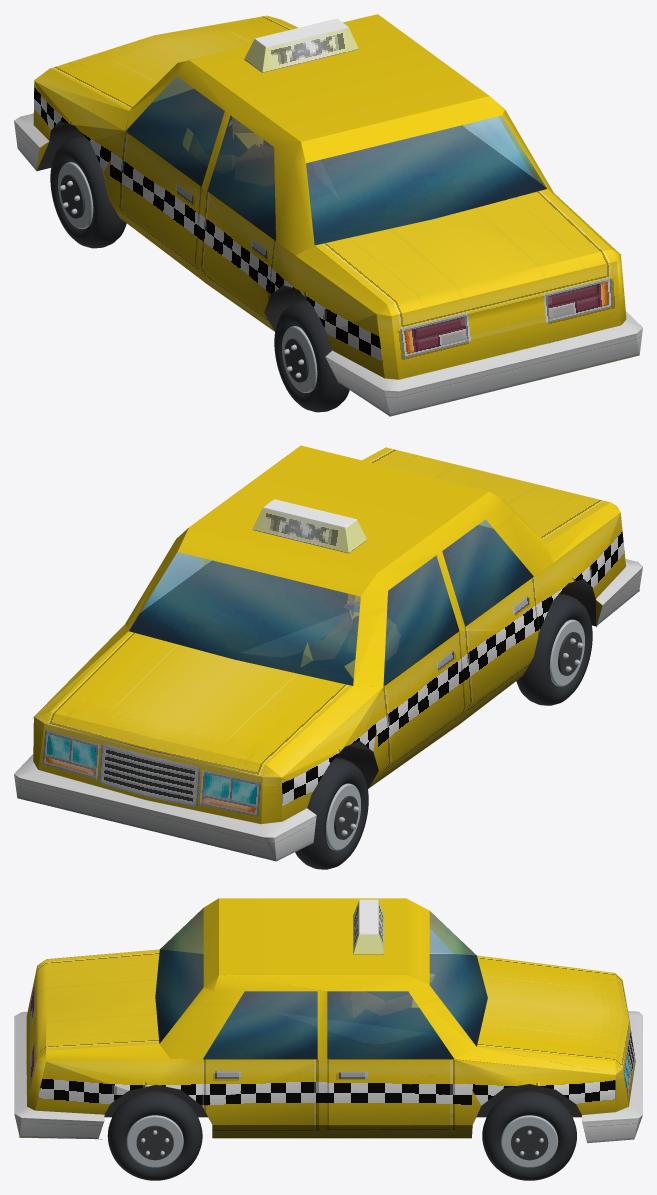
File: car-taxia.glb
3 renders of one model, top to bottom at view 1: azimuth 30°, elevation 25°; view 2: azimuth 150°, elevation 25°; view 3: azimuth 270°, elevation 25°, orthographic. The views are drawn at different scales.
Visible parts, largest first — view 1: taxiAShape.001, windShape.003, taxiAShape, Rounded tire.029, Rounded tire.030, Alloy rim.029, Alloy rim.030, Rim recess.060, Rim recess.058; view 2: taxiAShape.001, windShape.003, taxiAShape, Rounded tire.030, Rounded tire.029, Alloy rim.030, Alloy rim.029, Rim recess.060, Rim recess.058; view 3: taxiAShape.001, windShape.003, taxiAShape, Rounded tire.031, Rounded tire.028, Alloy rim.031, Alloy rim.028, Rim recess.057, Rim recess.063.
Part boxes in pixels (box(x1,y1,x2,y2)): taxiAShape.001: box(14, 14, 642, 416); windShape.003: box(126, 76, 546, 245); taxiAShape: box(125, 89, 546, 244); Rounded tire.029: box(50, 136, 126, 248); Rounded tire.030: box(274, 300, 349, 412); Alloy rim.029: box(58, 162, 93, 229); Alloy rim.030: box(282, 326, 317, 392); Rim recess.060: box(284, 338, 308, 382); Rim recess.058: box(60, 174, 84, 218); taxiAShape.001: box(14, 445, 642, 861); windShape.003: box(129, 519, 533, 686); taxiAShape: box(129, 525, 533, 686); Rounded tire.030: box(516, 594, 592, 705); Rounded tire.029: box(295, 758, 368, 869); Alloy rim.030: box(549, 619, 584, 686); Alloy rim.029: box(326, 783, 360, 850); Rim recess.060: box(558, 632, 582, 675); Rim recess.058: box(334, 796, 358, 839); taxiAShape.001: box(14, 898, 642, 1143); windShape.003: box(155, 908, 487, 1058); taxiAShape: box(155, 949, 487, 1059); Rounded tire.031: box(107, 1091, 202, 1180); Rounded tire.028: box(482, 1091, 576, 1180); Alloy rim.031: box(126, 1115, 183, 1167); Alloy rim.028: box(501, 1115, 558, 1167); Rim recess.057: box(511, 1125, 548, 1160); Rim recess.063: box(136, 1125, 173, 1160).
Bounding box in the file's own units: 2.41 × 2.05 × 5.51.
6 materials, 3 textured.
